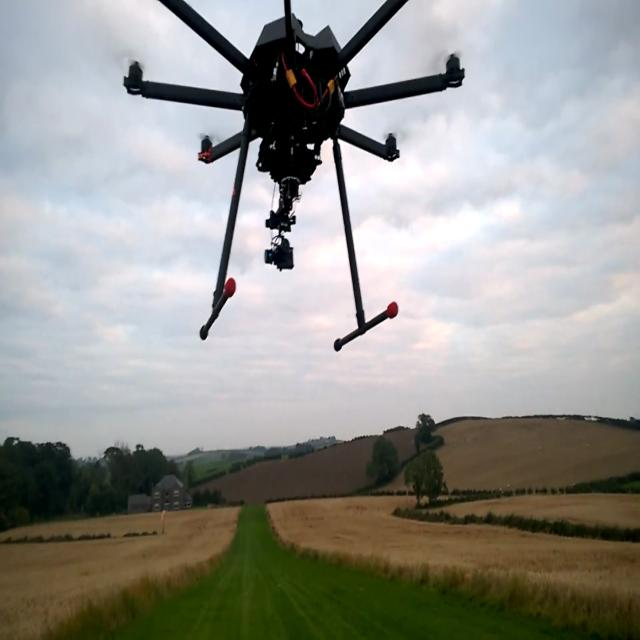drone: (119, 0, 462, 387)
